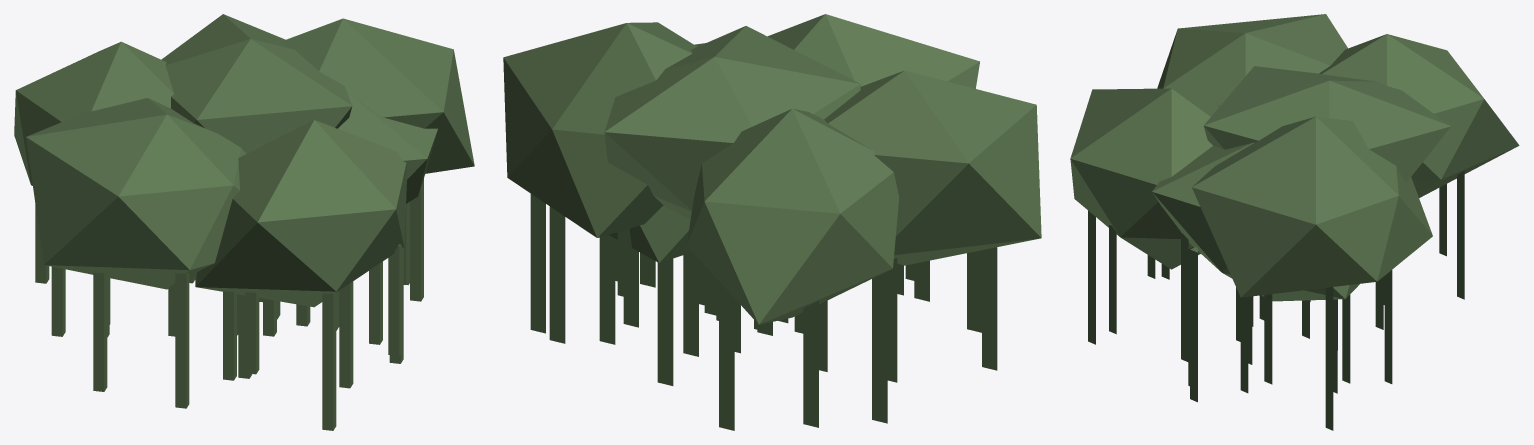
Rendered from tree_willow_l_crown.fbx.
The picture shows the model from 3 angles, left to right: view 1: azimuth 30°, elevation 25°; view 2: azimuth 150°, elevation 25°; view 3: azimuth 270°, elevation 25°; orthographic projection. The views are drawn at different scales.
Parts seen in each view (by area): view 1: tree_willow_l_crown; view 2: tree_willow_l_crown; view 3: tree_willow_l_crown.
Part boxes in pixels (box(x1,y1,x2,y2)): tree_willow_l_crown: box(14, 14, 474, 430); tree_willow_l_crown: box(503, 14, 1041, 430); tree_willow_l_crown: box(1070, 14, 1519, 430).
Bounding box in the file's own units: 3570 × 2348 × 3219.
